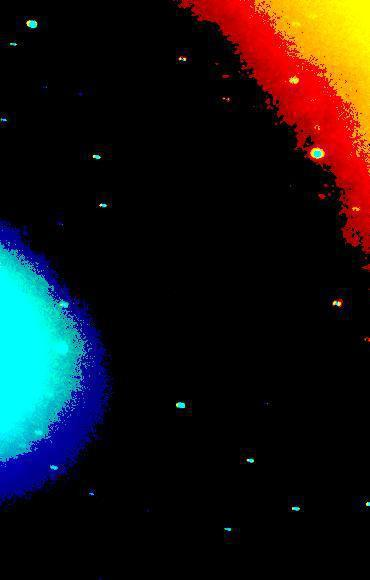star: (47, 165, 77, 195)
